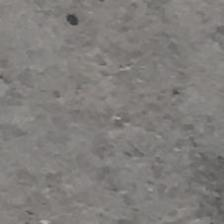Non_Crack: (29, 18, 224, 224)
